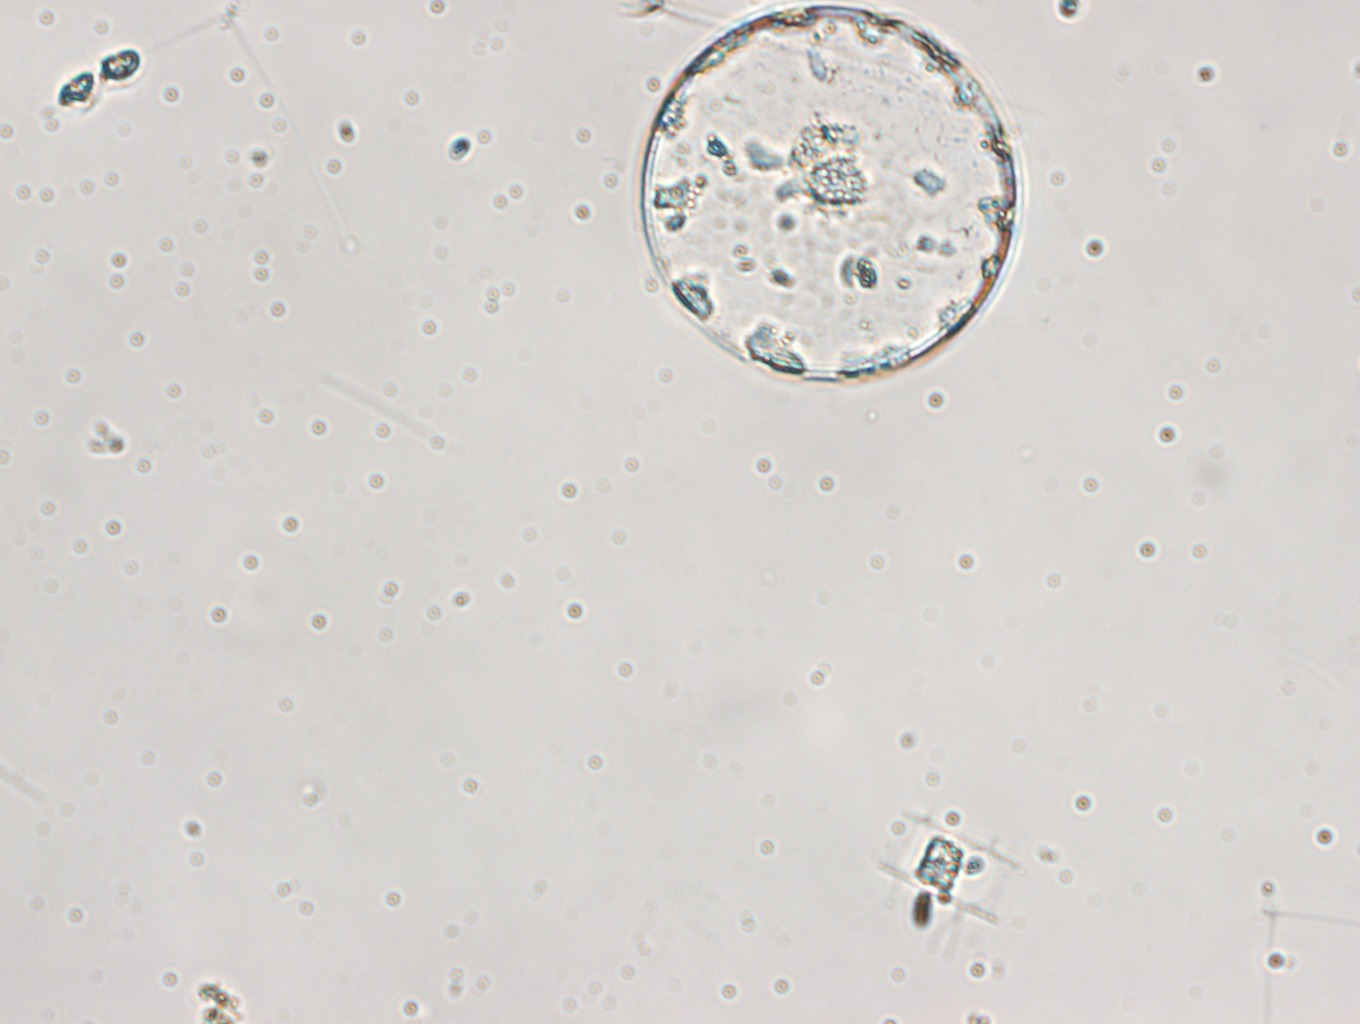coscinodiscus: (634, 1, 1025, 385)
